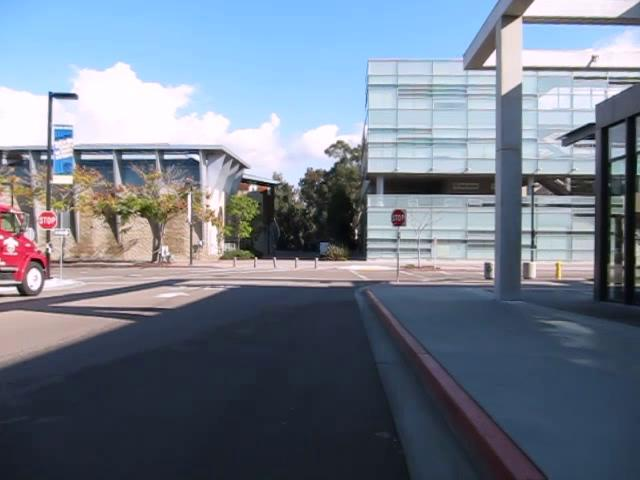stop: (390, 208, 406, 228)
